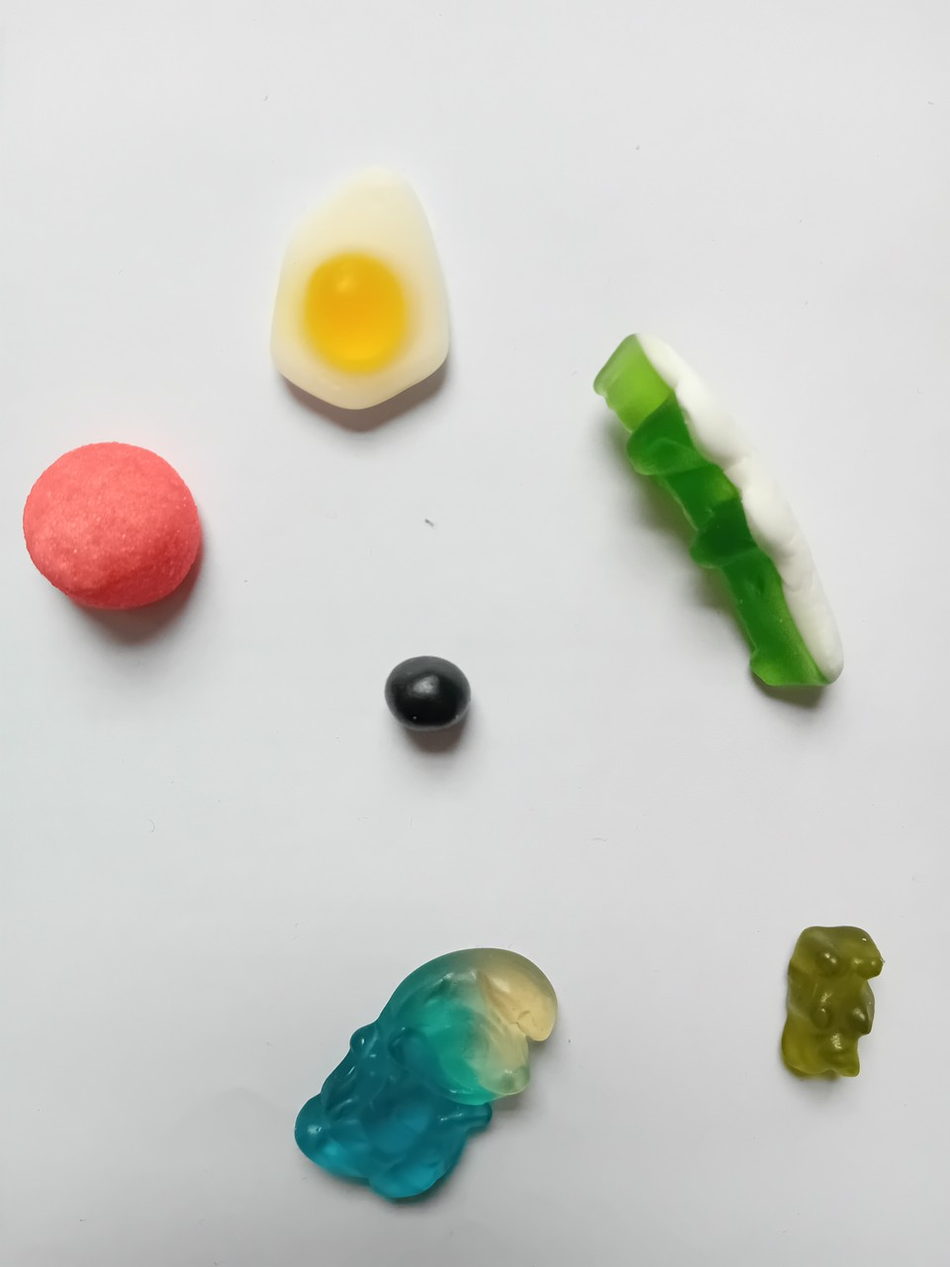crocodile_vert: (574, 315, 855, 696)
dragibus_noir: (376, 650, 484, 732)
oeuf_oeuf: (266, 160, 457, 416)
ourson_vert: (770, 920, 885, 1089)
schtroumpf_bleu-blanc: (284, 943, 563, 1204)
tagada_fraise: (14, 430, 207, 617)
